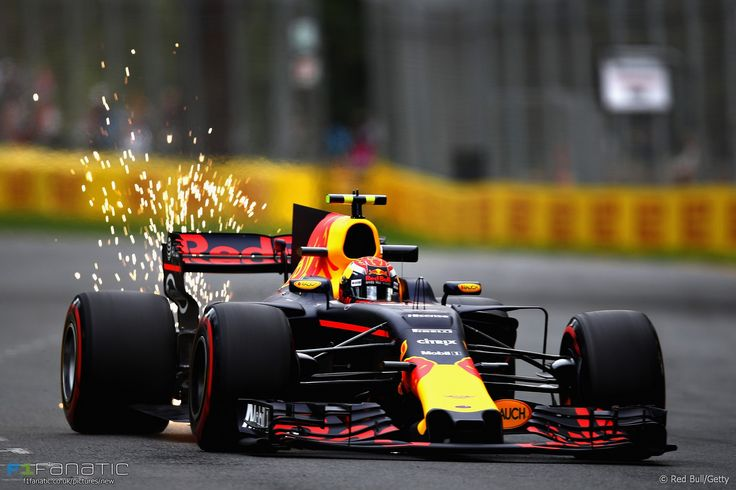Bobsleigh: (63, 225, 667, 457)
